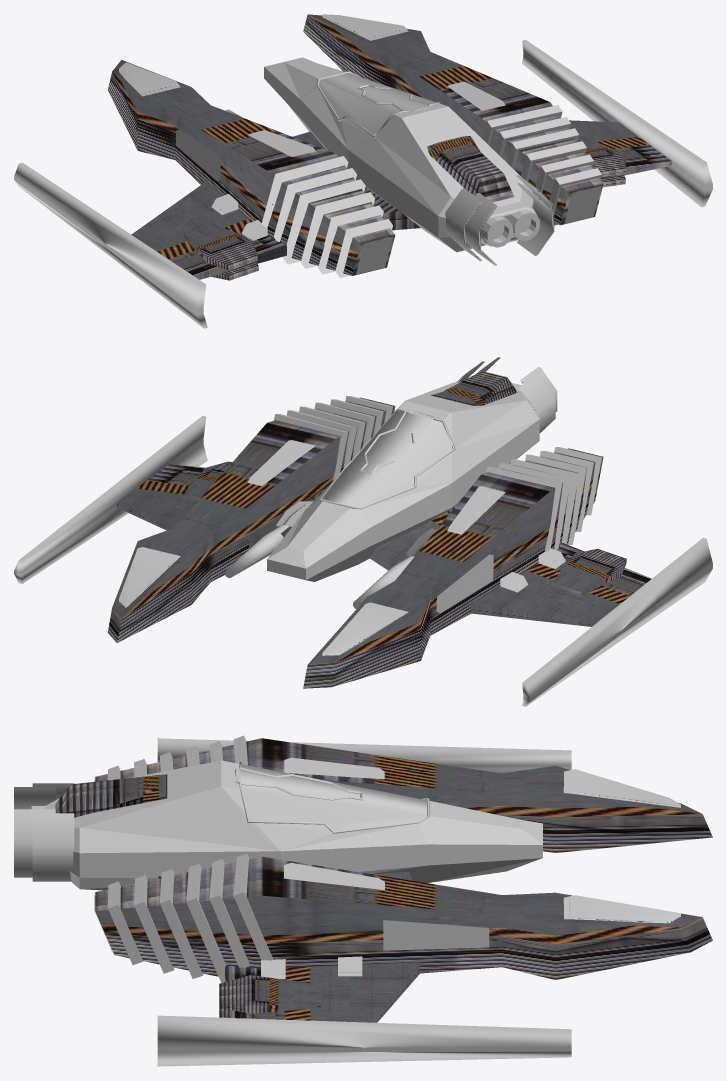
File: sship.obj
3 views of the same model, one above another, from view 1: azimuth 30°, elevation 25°; view 2: azimuth 150°, elevation 25°; view 3: azimuth 270°, elevation 25° (orthographic). The views are drawn at different scales.
Visible parts, largest first — view 1: Box32, Box11, Box19, Box26, Box15, Box25, Mesh01, Box22, Box14, Box27, Box09, Box35 (+25 smaller); view 2: Box32, Box19, Box11, Box26, Mesh01, Box25, Box15, Box14, Box27, Box10, Box22, Box39 (+18 smaller); view 3: Box19, Box11, Box32, Box15, Mesh01, Box14, Box26, Box16, Box22, Box40, Box18, Box39 (+12 smaller).
Part boxes in pixels (left/top/right/bottom): Box32: left=108, top=60, right=395, bottom=275; Box11: left=264, top=57, right=533, bottom=252; Box19: left=303, top=14, right=603, bottom=225; Box26: left=14, top=162, right=207, bottom=328; Box15: left=522, top=40, right=712, bottom=207; Box25: left=131, top=181, right=286, bottom=279; Mesh01: left=319, top=73, right=435, bottom=134; Box22: left=427, top=136, right=514, bottom=202; Box14: left=569, top=120, right=671, bottom=178; Box27: left=183, top=223, right=257, bottom=270; Box09: left=445, top=188, right=482, bottom=261; Box35: left=283, top=179, right=365, bottom=264; Box32: left=303, top=448, right=603, bottom=688; Box19: left=108, top=397, right=395, bottom=642; Box11: left=267, top=382, right=539, bottom=581; Box26: left=522, top=538, right=712, bottom=706; Mesh01: left=322, top=411, right=451, bottom=507; Box25: left=471, top=543, right=651, bottom=626; Box15: left=14, top=415, right=207, bottom=583; Box14: left=116, top=464, right=204, bottom=530; Box27: left=552, top=548, right=626, bottom=595; Box10: left=322, top=602, right=408, bottom=655; Box22: left=430, top=371, right=517, bottom=405; Box39: left=119, top=547, right=180, bottom=607; Box19: left=95, top=856, right=712, bottom=979; Box11: left=45, top=760, right=542, bottom=890; Box32: left=95, top=738, right=712, bottom=852; Box15: left=157, top=1015, right=571, bottom=1066; Mesh01: left=240, top=764, right=426, bottom=831; Box14: left=225, top=962, right=420, bottom=1022; Box26: left=157, top=738, right=571, bottom=773; Box16: left=219, top=975, right=321, bottom=1013; Box22: left=55, top=774, right=167, bottom=817; Box40: left=32, top=813, right=74, bottom=881; Box18: left=383, top=920, right=489, bottom=950; Box39: left=563, top=895, right=680, bottom=923.
Size of the model in its own units: 121 by 30.36 by 125.
